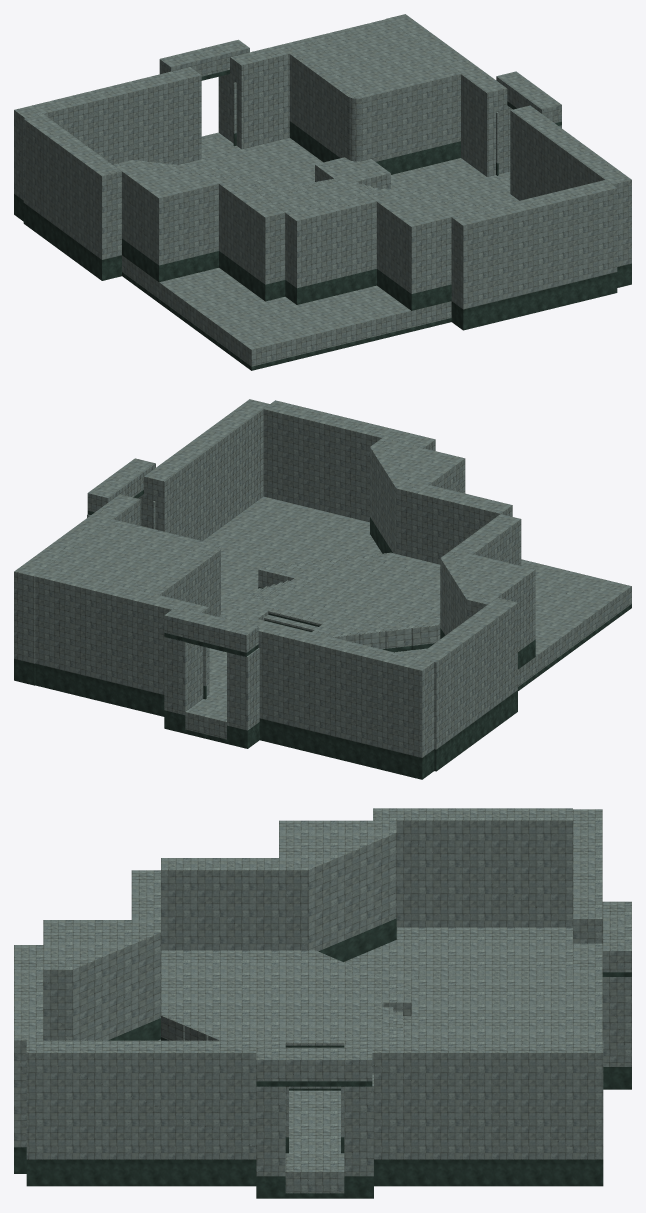
File: smallcorner.glb
The picture shows the model from 3 angles, top to bottom: view 1: azimuth 30°, elevation 25°; view 2: azimuth 150°, elevation 25°; view 3: azimuth 270°, elevation 25°; orthographic projection. The views are drawn at different scales.
Visible parts, largest first — view 1: block (×18), block_corner_large (×2), block_corner_round_small; view 2: block (×20), block_corner_large (×5), stairs (×2), block_corner_round_small; view 3: block (×20), block_corner_large (×3), stairs (×2).
Part boxes in pixels (<box>): block (×18): <box>14,14,631,370</box>; block_corner_large (×2): <box>113,160,490,310</box>; block_corner_round_small: <box>341,87,373,161</box>; block (×20): <box>14,399,631,779</box>; block_corner_large (×5): <box>355,438,535,669</box>; stairs (×2): <box>247,578,325,631</box>; block_corner_round_small: <box>193,541,220,616</box>; block (×20): <box>14,808,631,1198</box>; block_corner_large (×3): <box>43,820,396,1040</box>; stairs (×2): <box>284,1002,411,1090</box>.
Bounding box in the file's own units: 20.68 × 5.2 × 21.
Materials: 96 (96 with a texture image).
